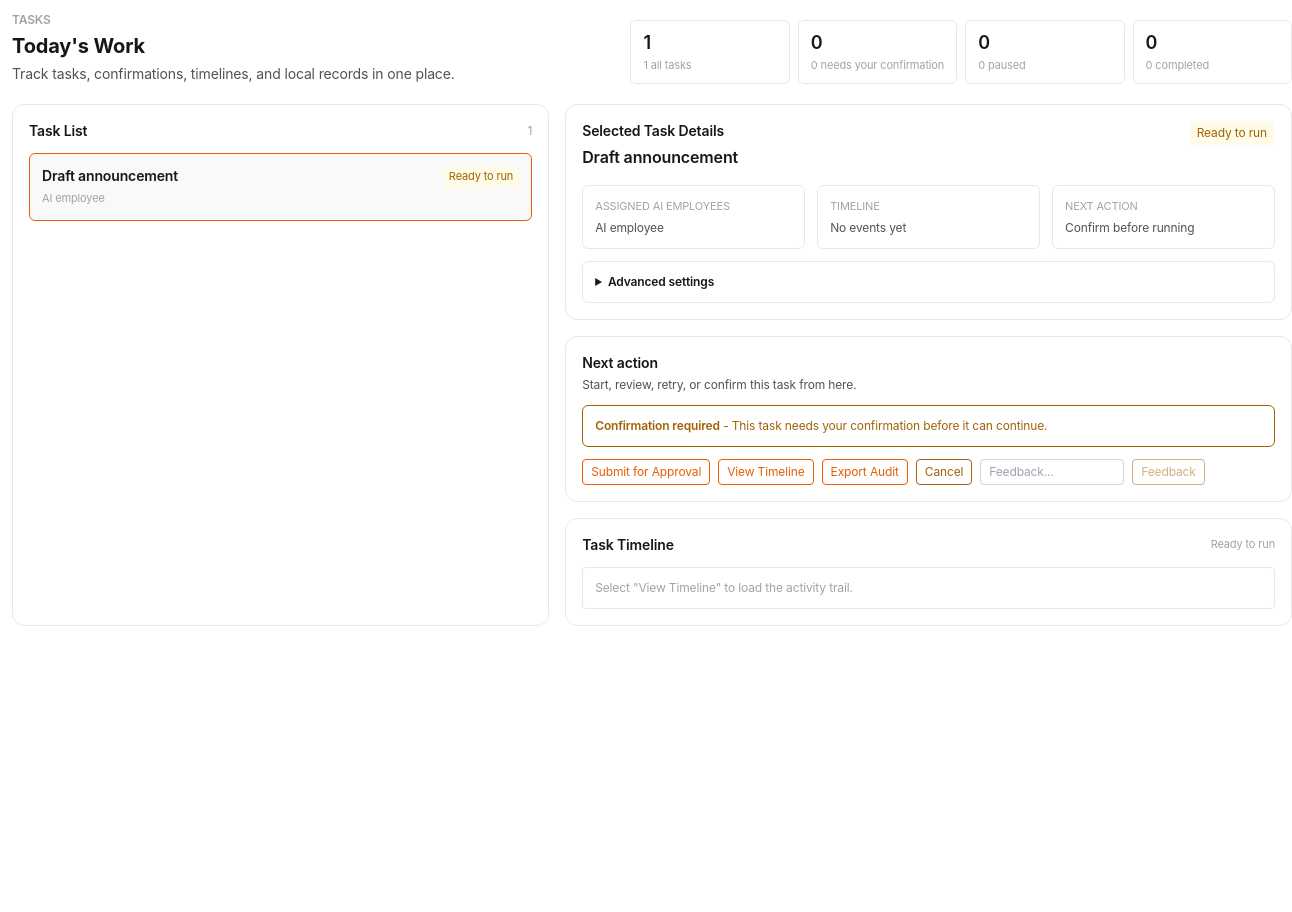
WorkOrders › submits Yellow work for approval instead of implying direct execution
This screenshot has width=1292, height=912.
Click the button "Submit for Approval" at (646, 472), box [582,459,710,485]
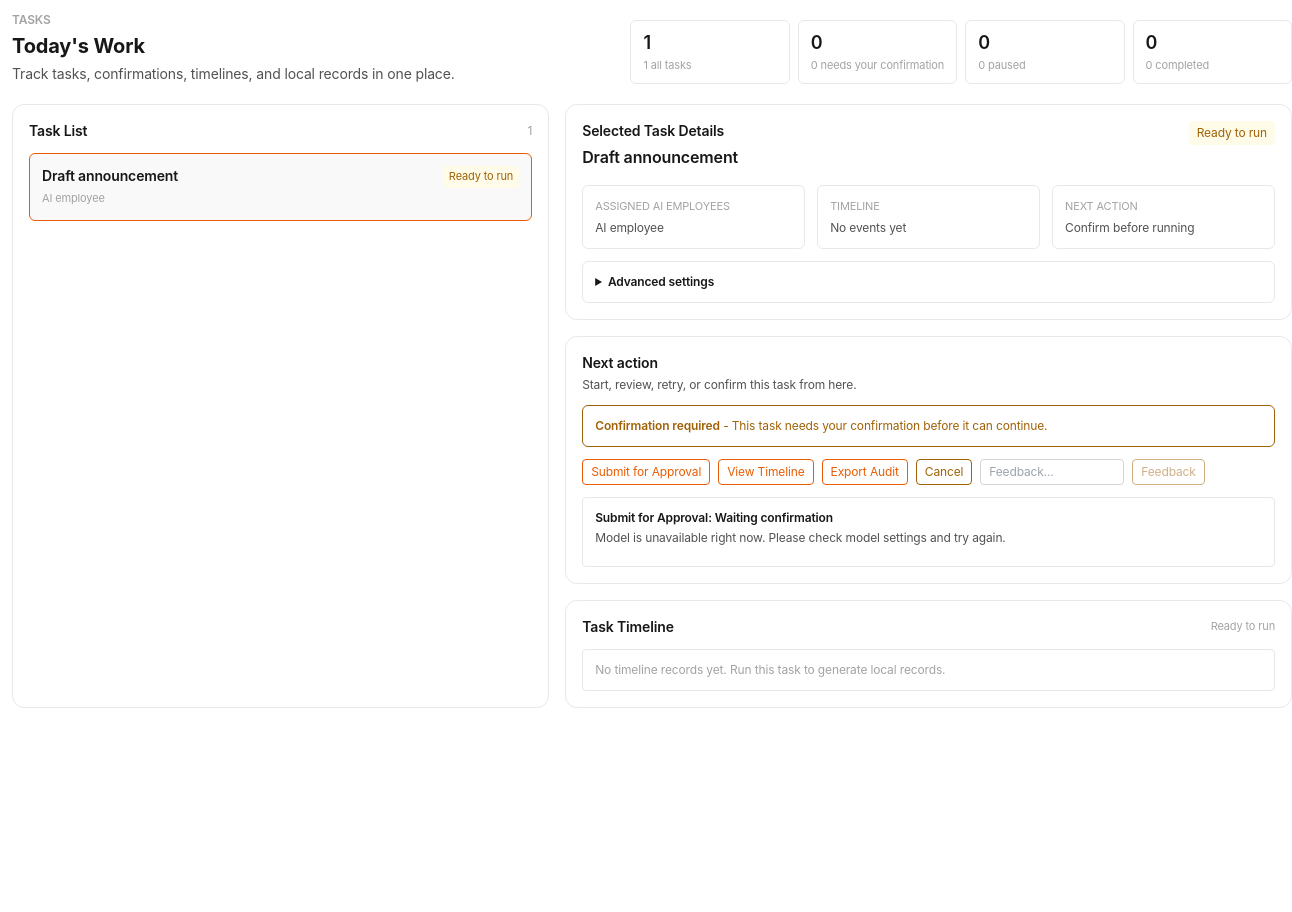
Now the text "Submit for Approval: Waiting confirmation" is shown, box [595,510,833,525]
